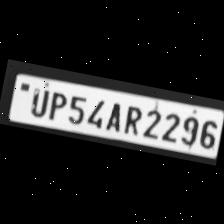2: (157, 108, 182, 142), (139, 104, 163, 138)
4: (83, 92, 108, 128)
5: (64, 90, 90, 124)
6: (196, 116, 220, 149)
9: (177, 112, 201, 146)
A: (102, 98, 125, 132)
P: (44, 88, 69, 122)
R: (118, 101, 144, 135)
U: (25, 84, 51, 118)
